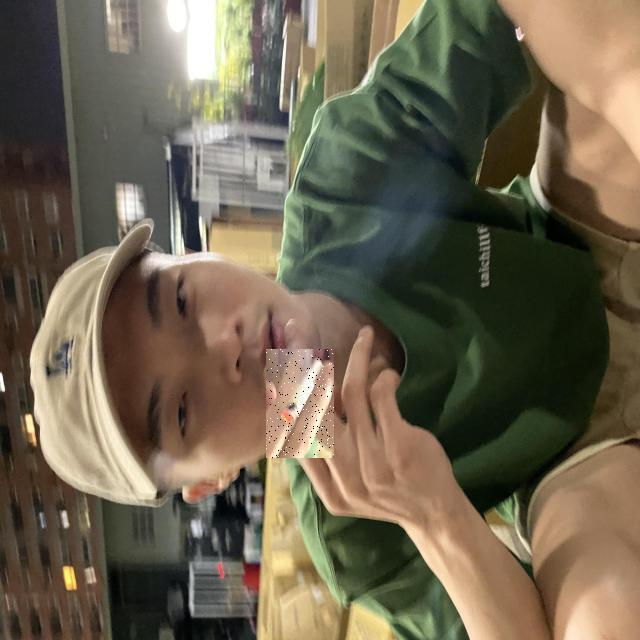smoking: (266, 349, 334, 458)
